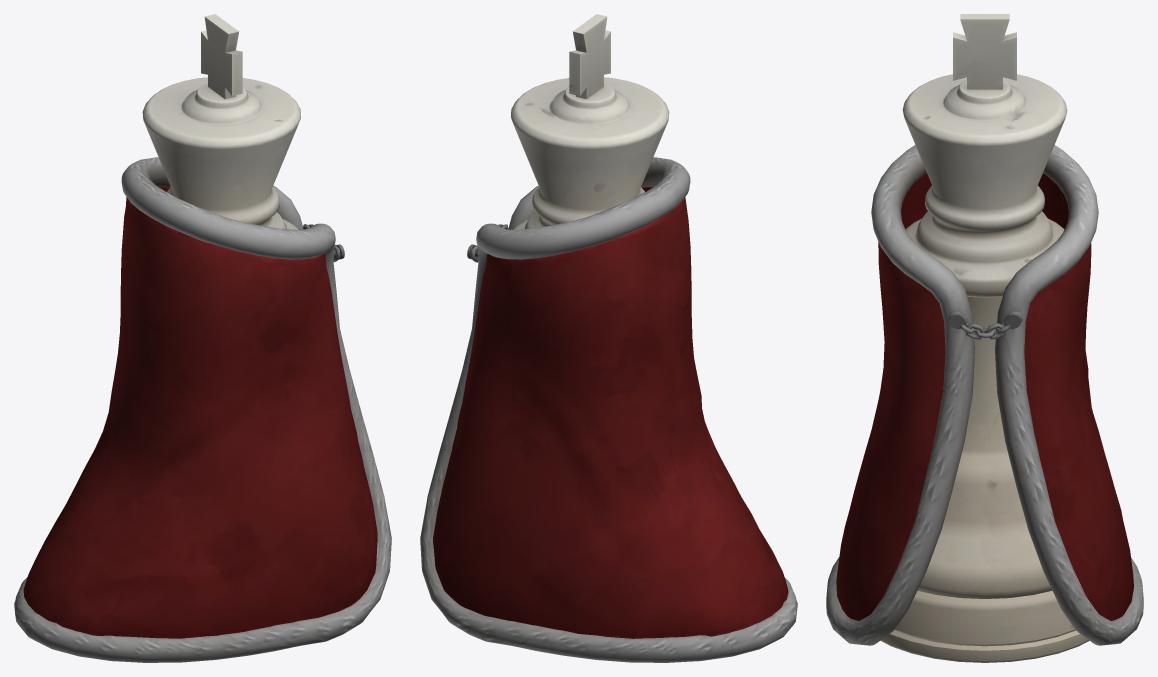
File: king.glb
3 renders of one model, left to right at view 1: azimuth 30°, elevation 25°; view 2: azimuth 150°, elevation 25°; view 3: azimuth 270°, elevation 25°, orthographic. The views are drawn at different scales.
Parts seen in each view (by area): view 1: Circle.003_King_0; view 2: Circle.003_King_0; view 3: Circle.003_King_0.
Boxes of the visible parts, left/top/right/bottom form: Circle.003_King_0: left=14, top=14, right=391, bottom=662; Circle.003_King_0: left=420, top=14, right=797, bottom=662; Circle.003_King_0: left=826, top=14, right=1143, bottom=662.
Bounding box in the file's own units: 2.87 × 4.9 × 2.38.
Materials: 1 (1 with a texture image).
